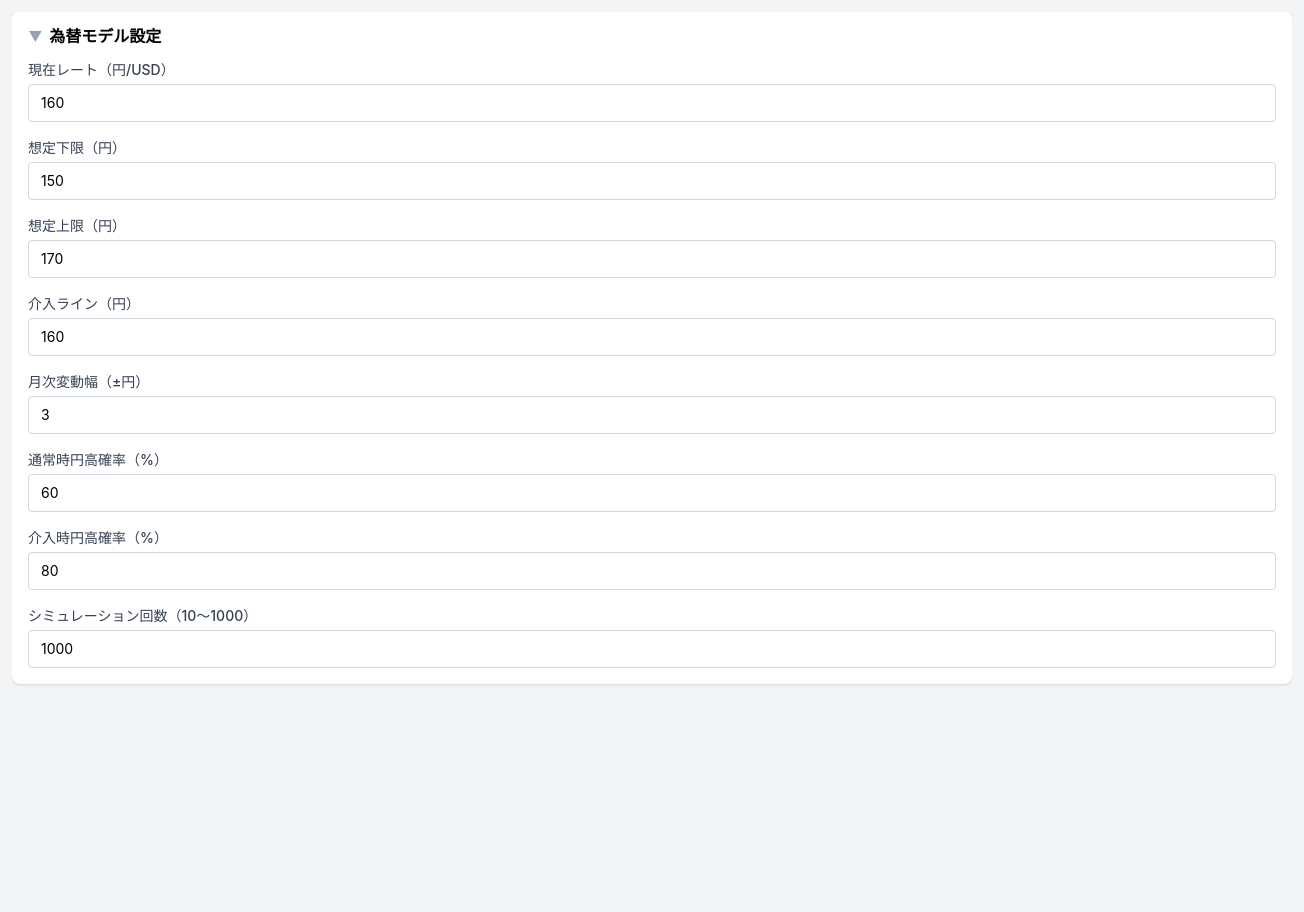
Test: MontecarloSettings › トグルボタンをクリックすると入力フィールドが非表示になる
Click the button "▶ 為替モデル設定" at coordinates (105, 36), box [12, 12, 1292, 60]
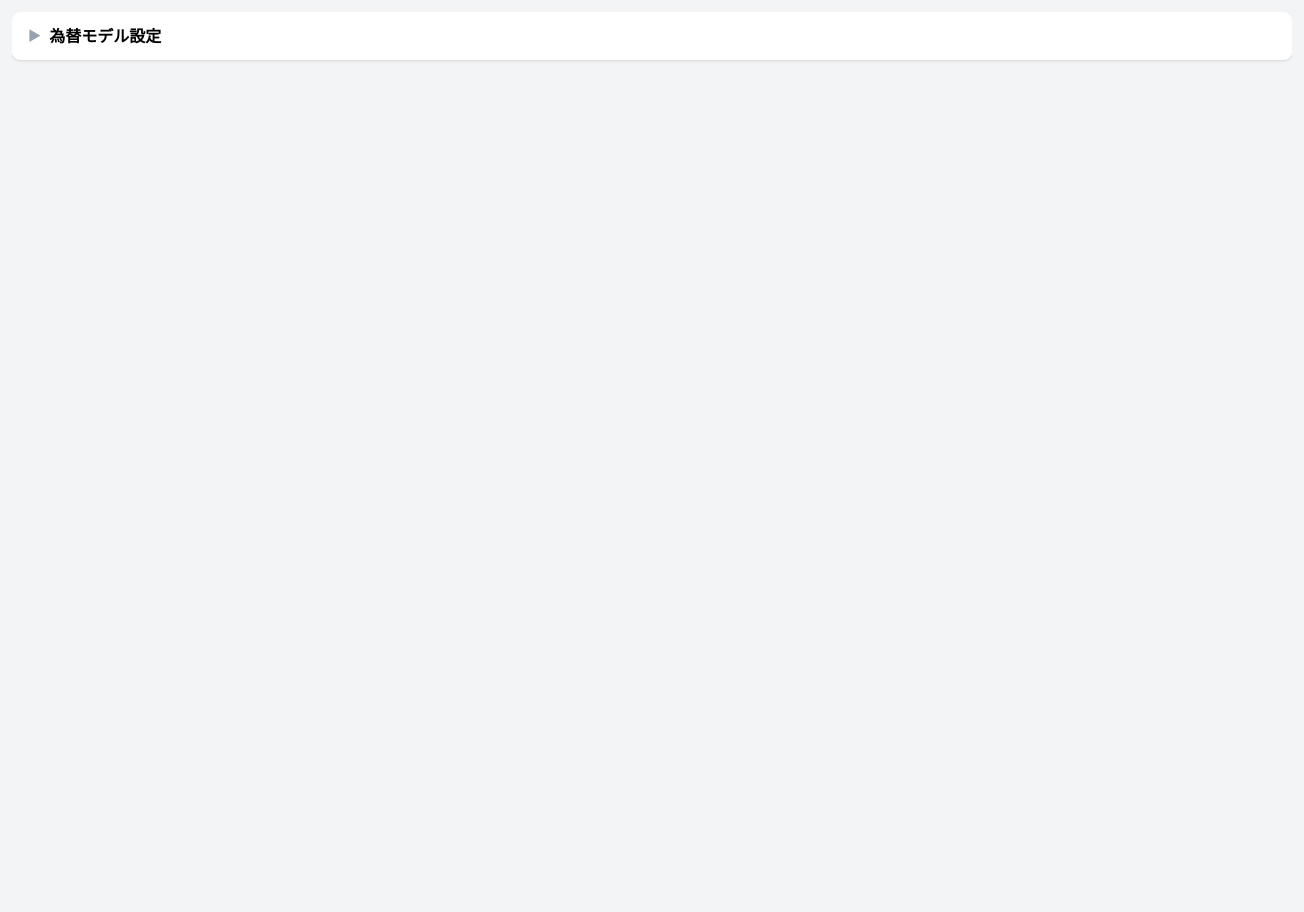
Expected: no number fields are shown
